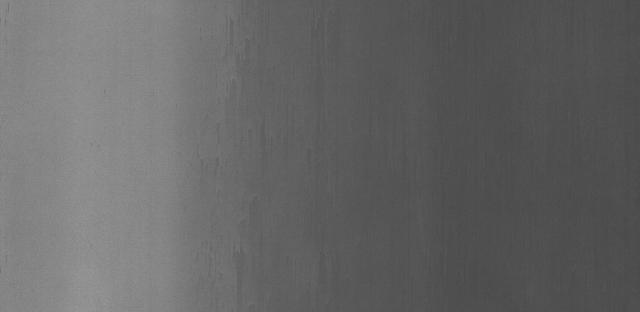silk_spot: (206, 19, 307, 253)
